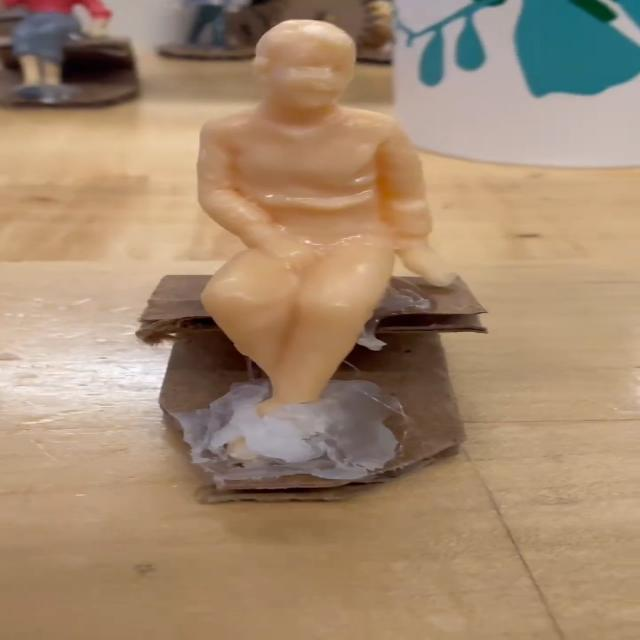Unauthorized: (162, 4, 466, 416)
